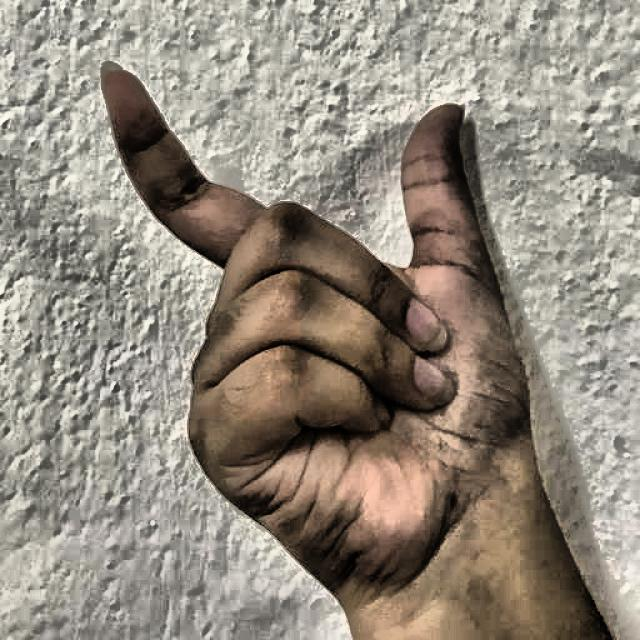ChandraBindu: (74, 21, 565, 610)
